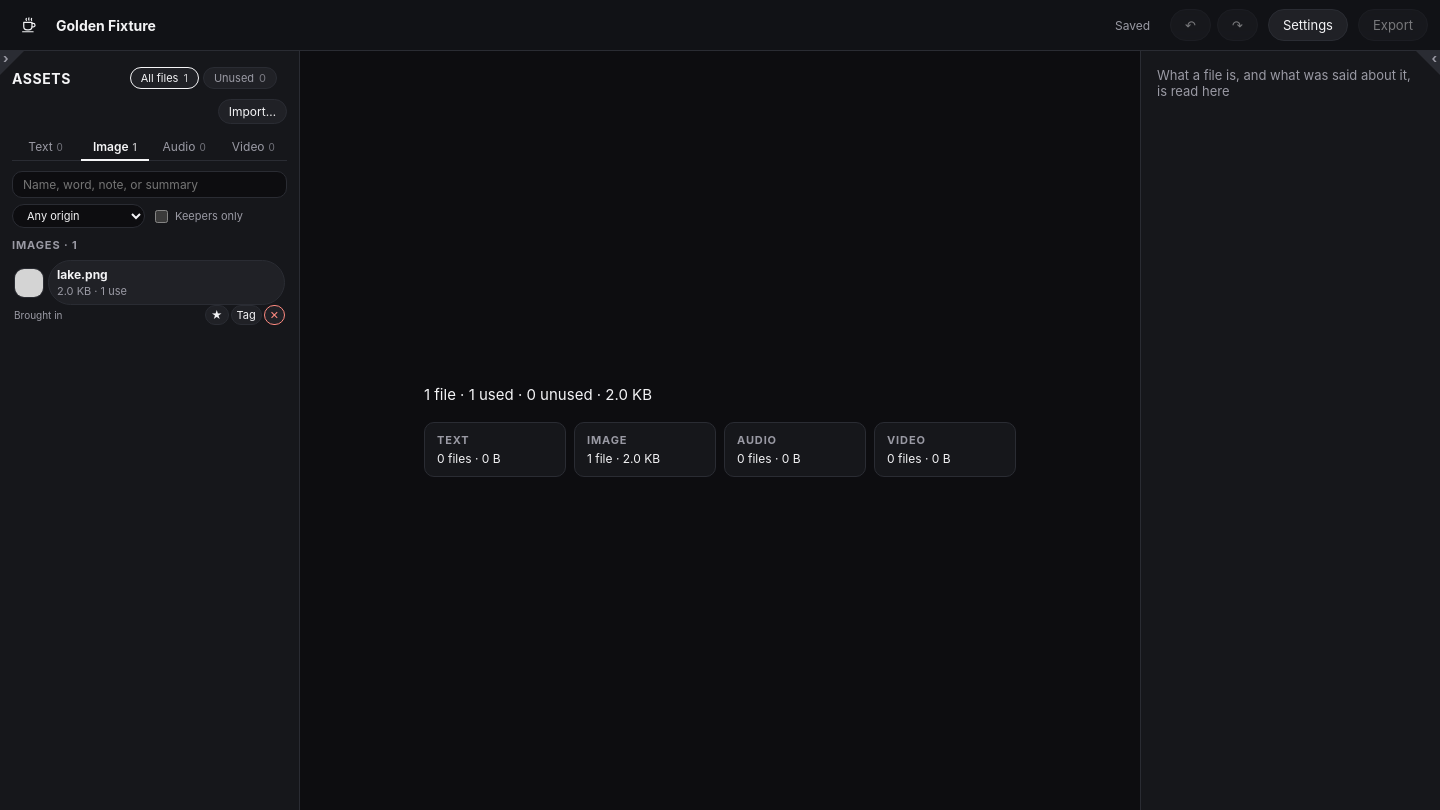
Scenario: the files room › stands its three panes, the menu marking it as where the reader is
expect the element labelled "Assets" is shown: met, box x1=0 y1=51 x2=300 y2=809
expect the element labelled "file" is shown: met, box x1=1140 y1=51 x2=1439 y2=809
Click the button with test id "home-menu-button" at [29, 25], box x1=12 y1=8 x2=46 y2=42
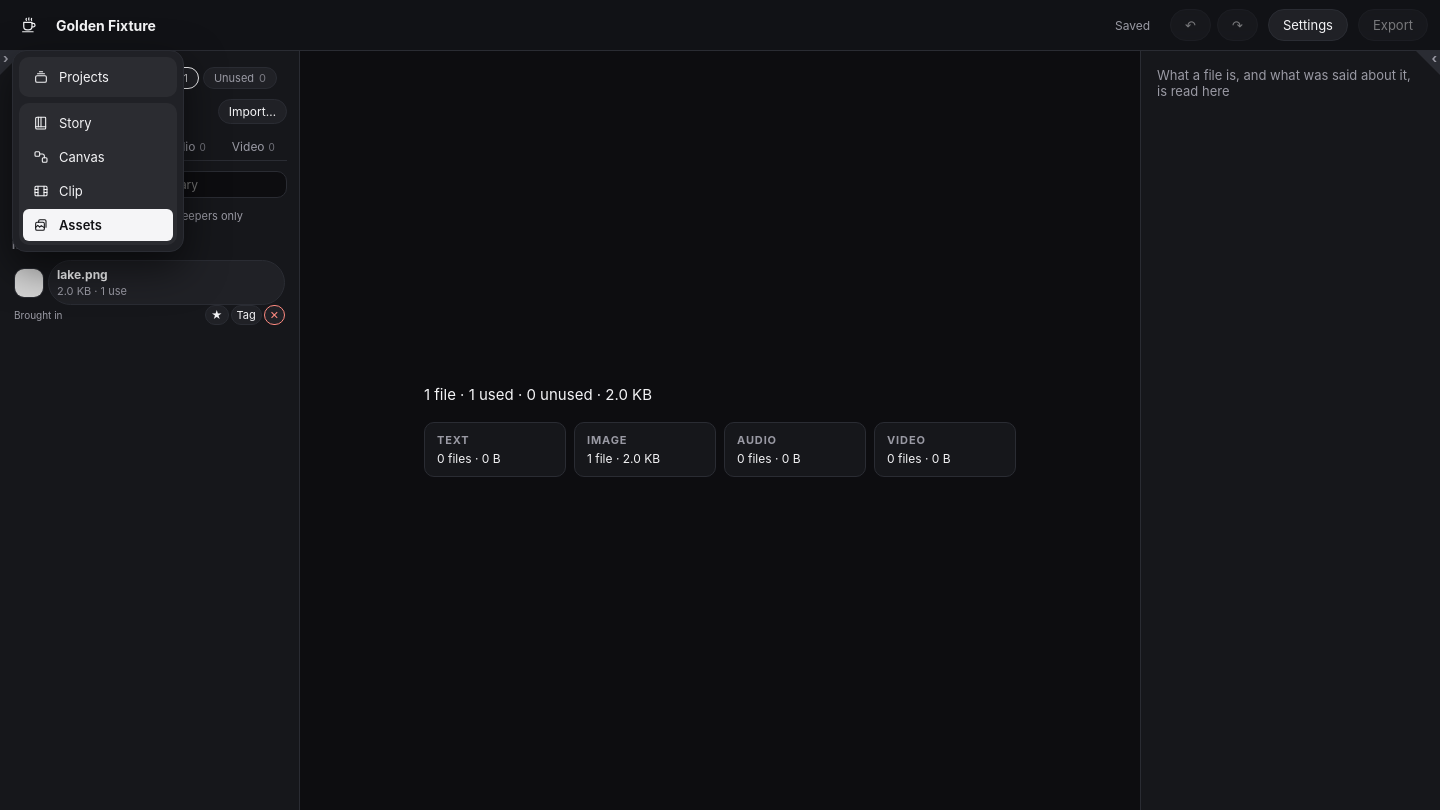
expect the menu item "Assets" is shown: met, box x1=23 y1=209 x2=173 y2=241
